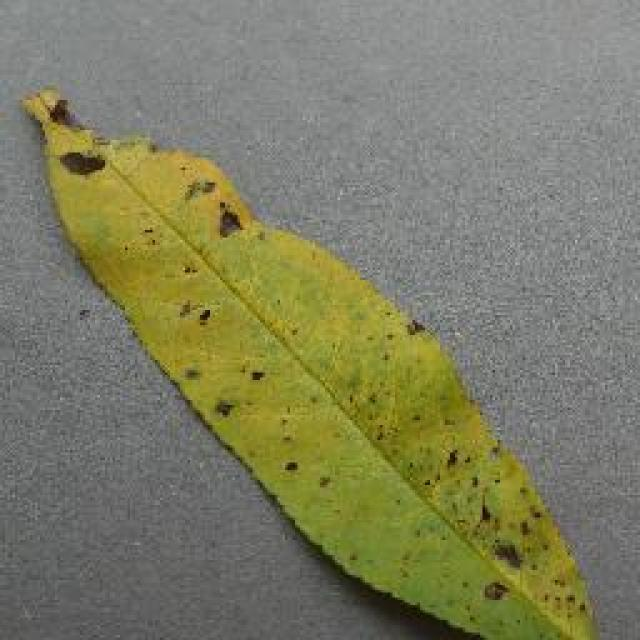Peach_Bacterial_Spot: (85, 126, 580, 612)
